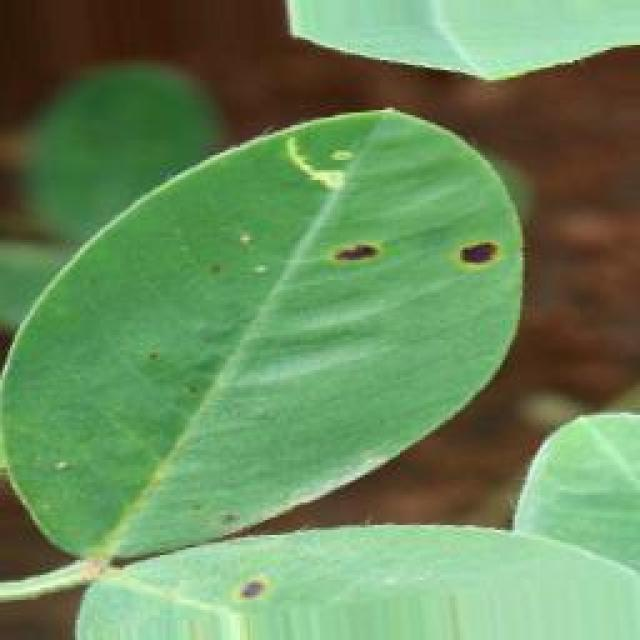Sigatoka: (206, 237, 299, 343), (125, 328, 219, 422), (323, 232, 400, 312), (454, 238, 539, 302), (227, 537, 285, 621), (202, 497, 258, 560)
